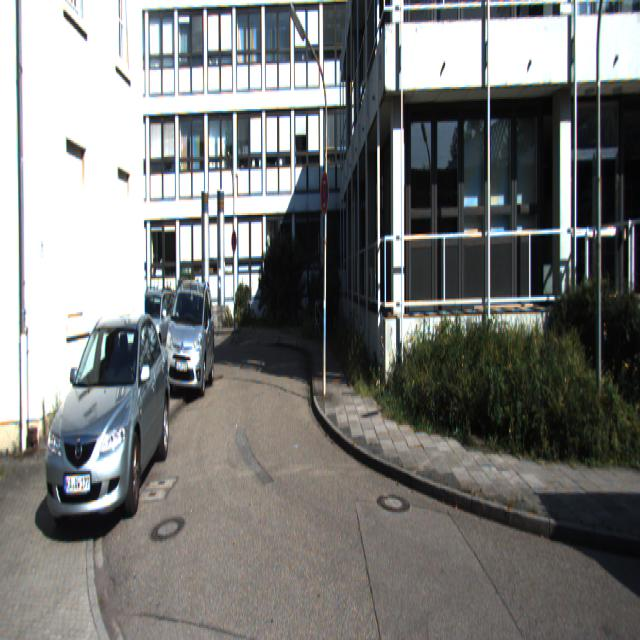Car: (36, 307, 174, 533), (161, 278, 218, 398)
